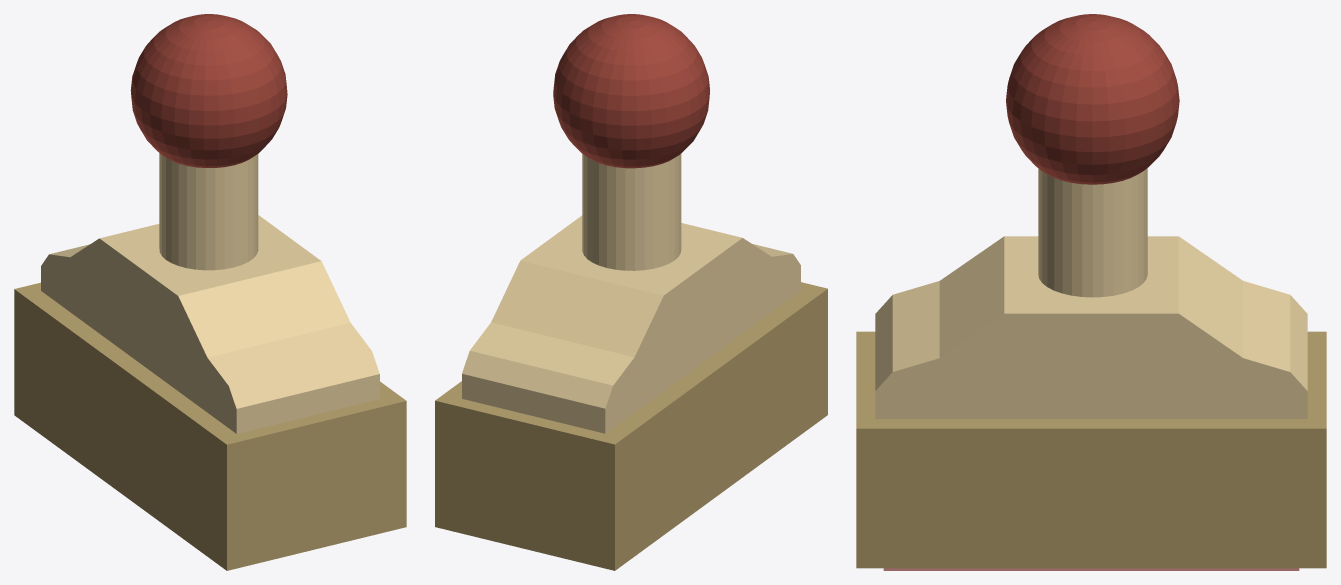
Rendered from Stamp.fbx.
The picture shows the model from 3 angles, left to right: view 1: azimuth 30°, elevation 25°; view 2: azimuth 150°, elevation 25°; view 3: azimuth 270°, elevation 25°; orthographic projection. The views are drawn at different scales.
Parts seen in each view (by area): view 1: Cube; view 2: Cube; view 3: Cube.
Boxes of the visible parts, box(x1,y1,x2,y2) form: Cube: box(14, 14, 406, 570); Cube: box(435, 14, 827, 570); Cube: box(856, 14, 1326, 570).
Bounding box in the file's own units: 298 × 724 × 611.
